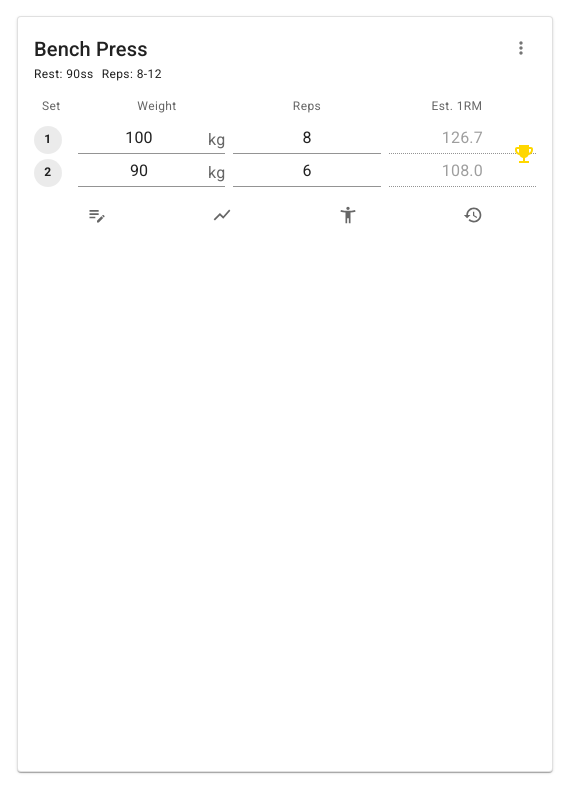
Scenario: ExerciseDetailView › shows — for null previous weight or reps
Click the tab named "history" at (473, 215), box x1=410 y1=199 x2=536 y2=231
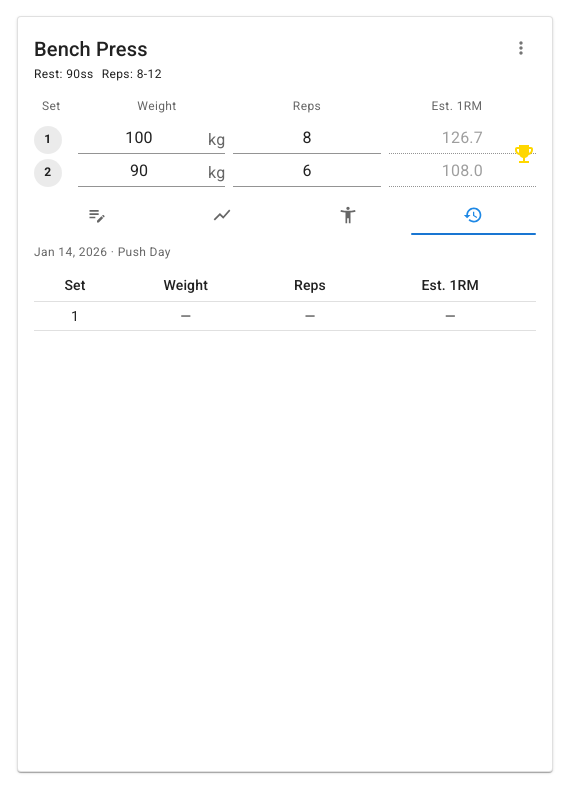
expect the text "—" is shown 3 times: met, box x1=116 y1=301 x2=256 y2=330; x1=256 y1=301 x2=364 y2=330; x1=364 y1=301 x2=536 y2=330
